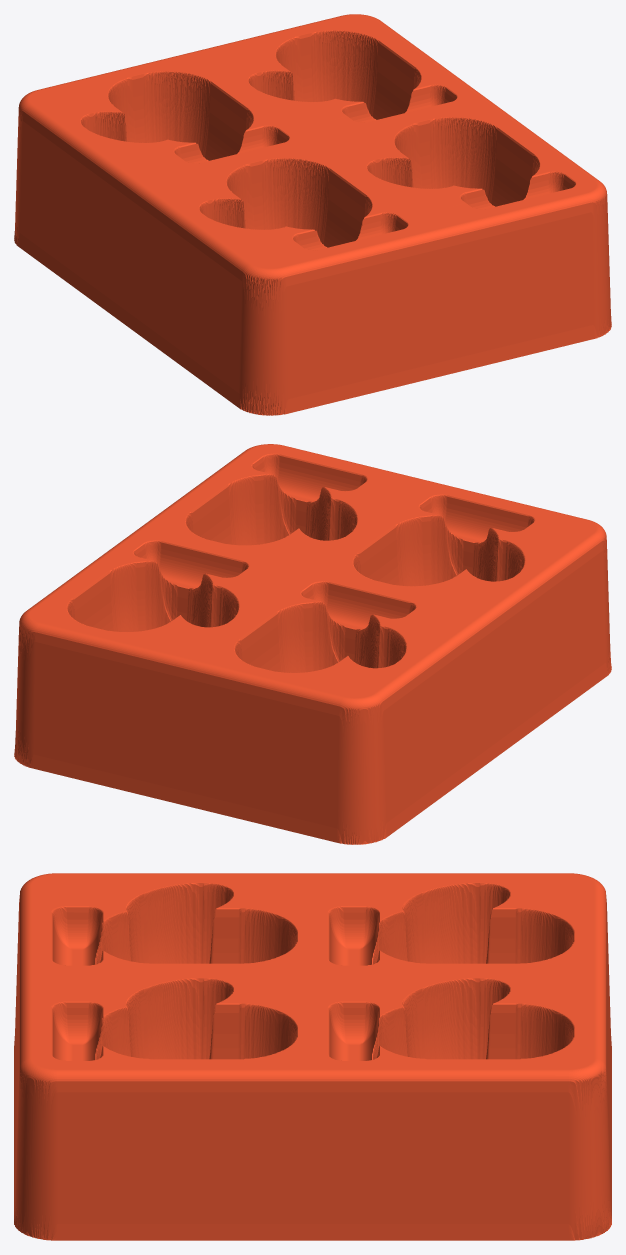
File: mold.glb
3 views of the same model, one above another, from view 1: azimuth 30°, elevation 25°; view 2: azimuth 150°, elevation 25°; view 3: azimuth 270°, elevation 25° (orthographic). The views are drawn at different scales.
Parts seen in each view (by area): view 1: geometry_0; view 2: geometry_0; view 3: geometry_0.
Boxes of the visible parts, <box> form: geometry_0: <box>14,14,611,415</box>; geometry_0: <box>14,444,611,844</box>; geometry_0: <box>14,873,611,1240</box>.
Bounding box in the file's own units: 0.1036 × 0.0378 × 0.1248.
